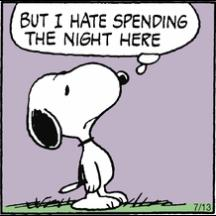snoopy: (26, 61, 130, 211)
